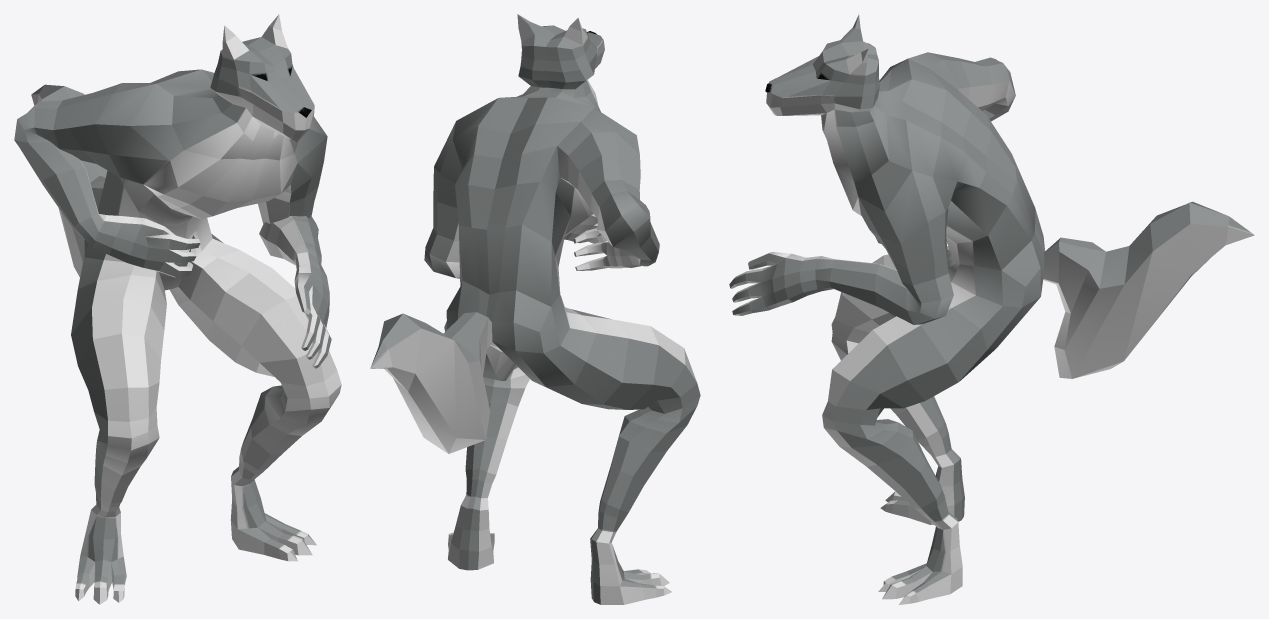
Rendered from WolfIdle_(77).obj.
3 views of the same model, side by side, from view 1: azimuth 30°, elevation 25°; view 2: azimuth 150°, elevation 25°; view 3: azimuth 270°, elevation 25° (orthographic). The views are drawn at different scales.
Visible parts, largest first — view 1: Box001; view 2: Box001; view 3: Box001.
Part boxes in pixels (<box>): Box001: <box>14,14,341,604</box>; Box001: <box>370,14,700,604</box>; Box001: <box>729,14,1254,604</box>.
Size of the model in its own units: 65.21 by 132 by 116.
